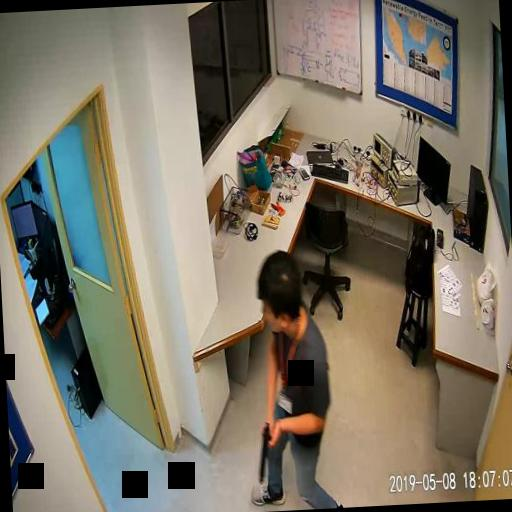Handgun: (254, 420, 272, 484)
